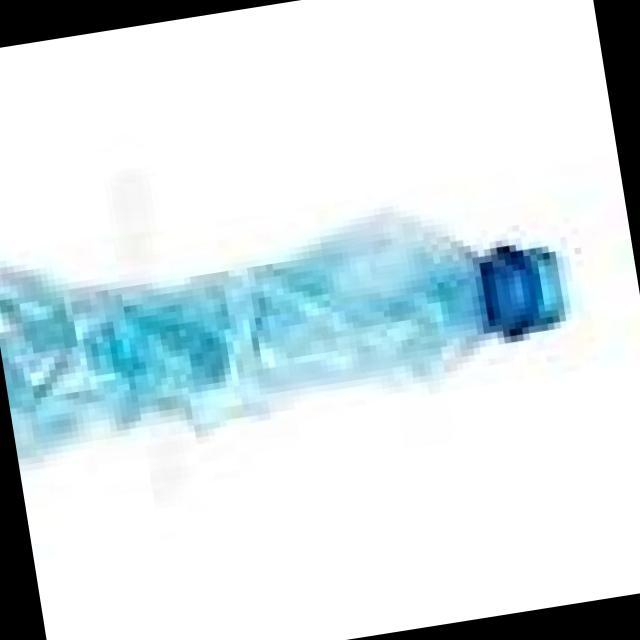defected: (0, 143, 609, 501)
